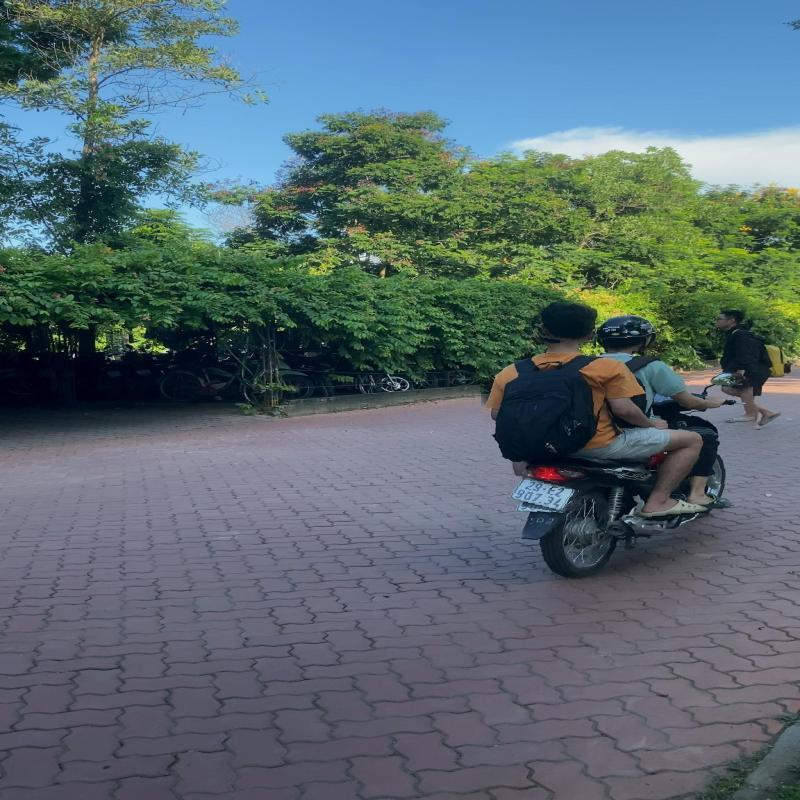helmet: (595, 313, 658, 353)
licenseplate: (507, 478, 578, 512)
motorcyclist: (480, 294, 760, 580)
nohelmet: (534, 298, 600, 344)
